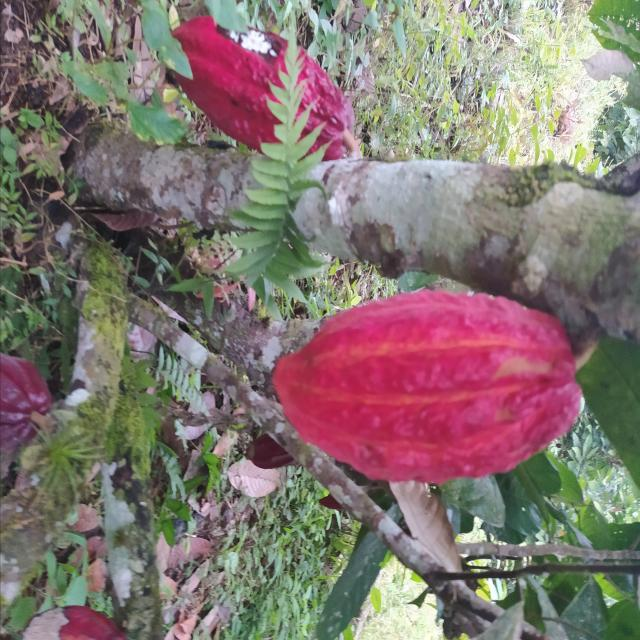Monilia: (163, 16, 354, 161), (17, 604, 129, 640)
Sana: (265, 291, 584, 481)
